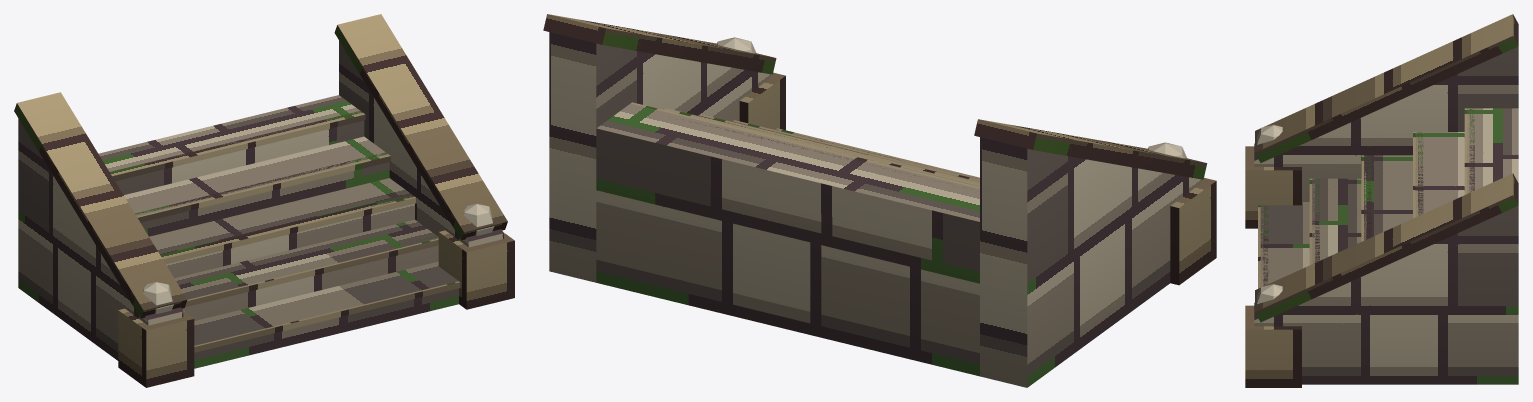
The model's file is scene_stairs_glade.glb.
3 renders of one model, left to right at view 1: azimuth 30°, elevation 25°; view 2: azimuth 150°, elevation 25°; view 3: azimuth 270°, elevation 25°, orthographic. The views are drawn at different scales.
Parts seen in each view (by area): view 1: scene_stairs_glade; view 2: scene_stairs_glade; view 3: scene_stairs_glade.
Part boxes in pixels (x1,y1,x2,y2): scene_stairs_glade: (14, 14, 514, 387); scene_stairs_glade: (543, 14, 1216, 387); scene_stairs_glade: (1245, 14, 1518, 387).
Size of the model in its own units: 3.36 by 1.64 by 2.12.
2 materials, 1 textured.
